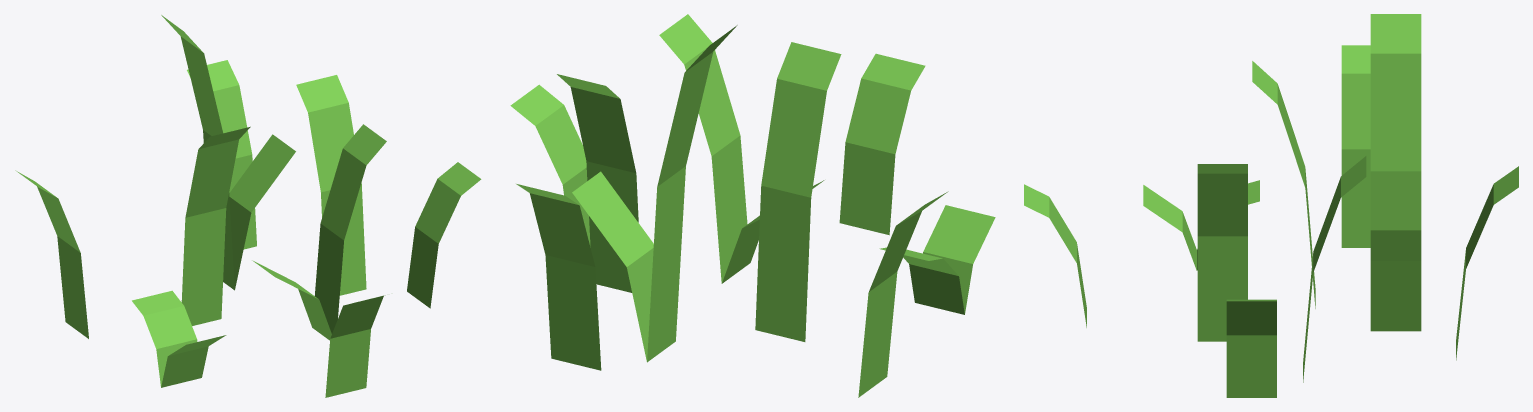
The model's file is grass.glb.
3 renders of one model, left to right at view 1: azimuth 30°, elevation 25°; view 2: azimuth 150°, elevation 25°; view 3: azimuth 270°, elevation 25°, orthographic. The views are drawn at different scales.
Parts seen in each view (by area): view 1: grass; view 2: grass; view 3: grass.
Part boxes in pixels (x1,y1,x2,y2): grass: [15, 15, 481, 397]; grass: [510, 14, 995, 397]; grass: [1024, 14, 1518, 397].
Size of the model in its own units: 1.52 by 1.02 by 1.57.
